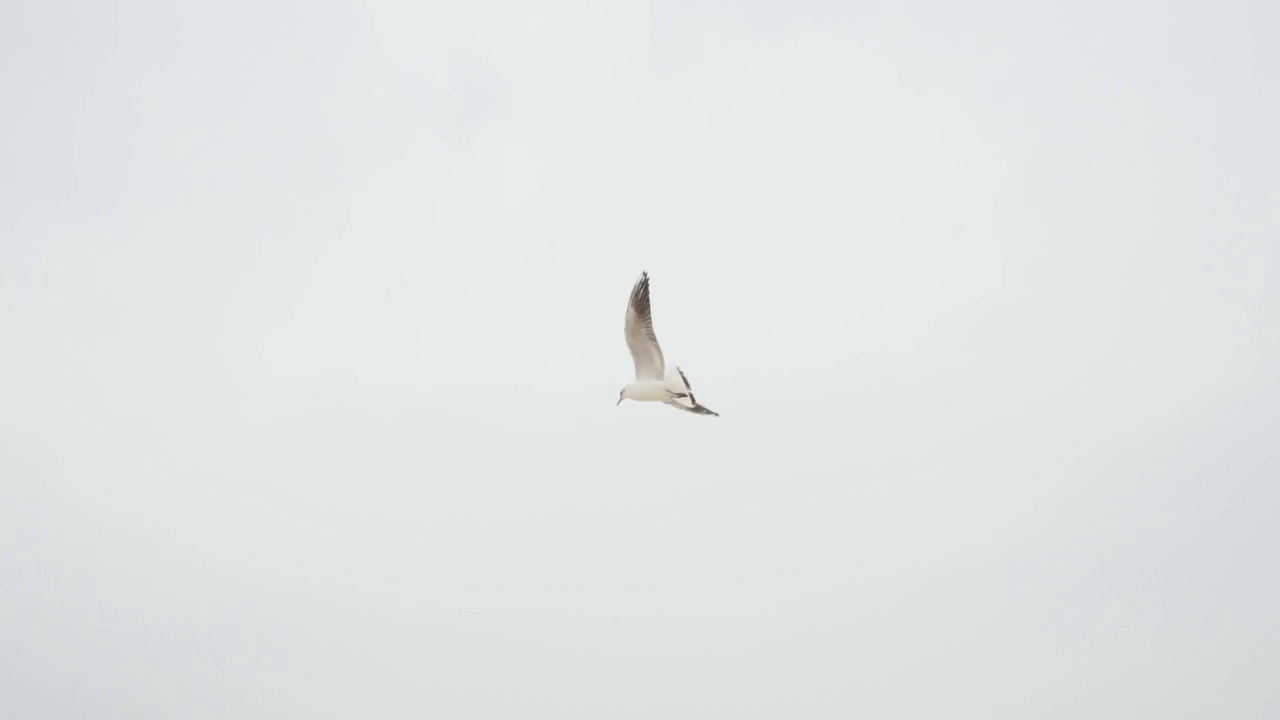bird: (609, 272, 719, 415)
